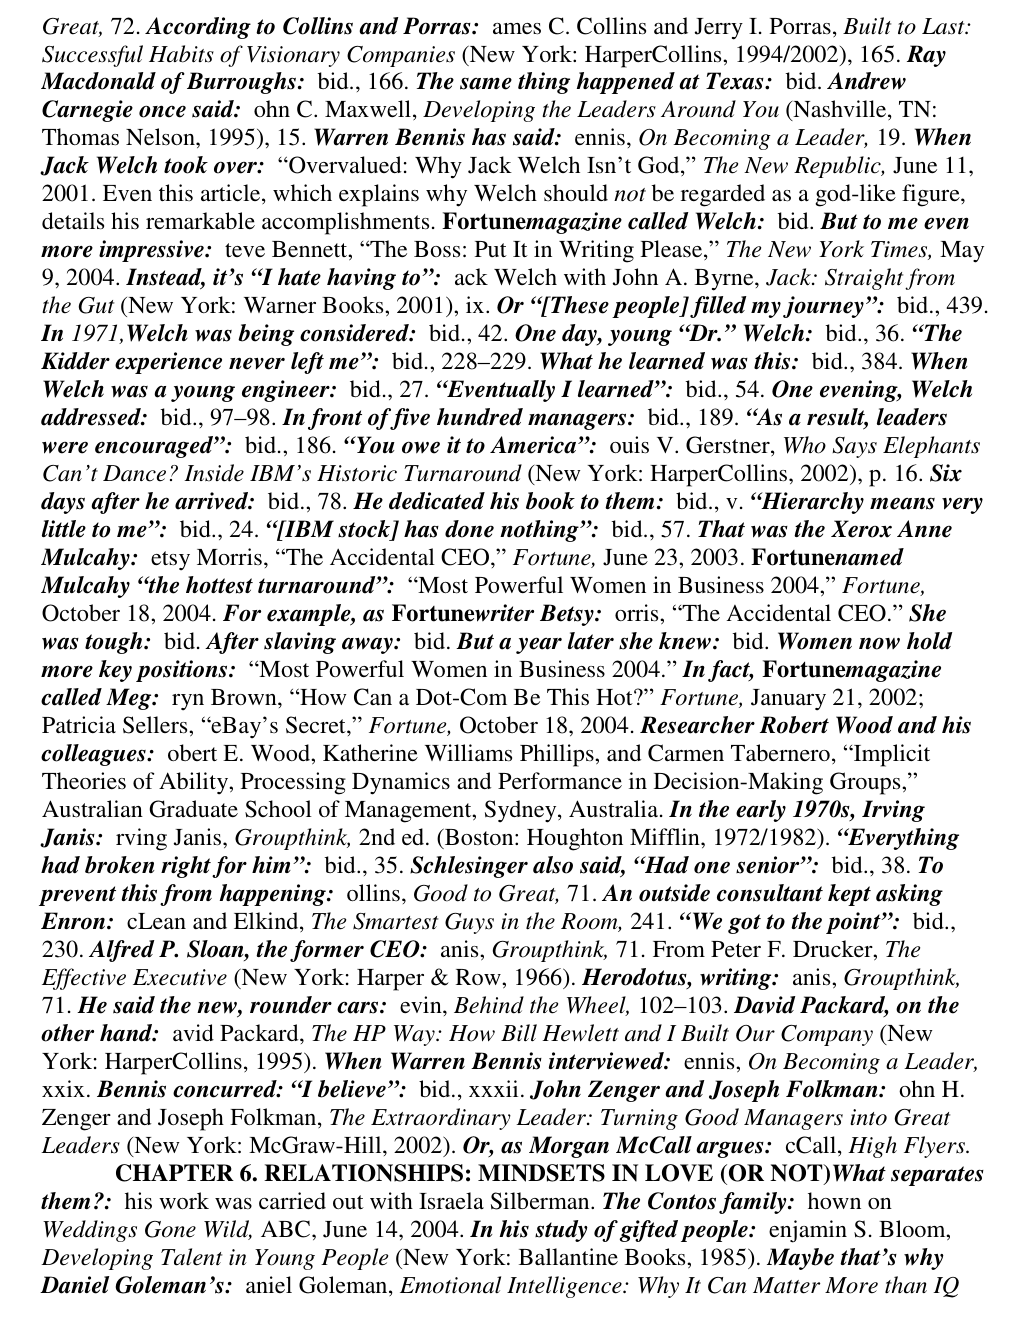latin: (34, 821, 979, 1154), (29, 319, 983, 627), (37, 14, 992, 317), (37, 628, 973, 819), (31, 1155, 986, 1302)
